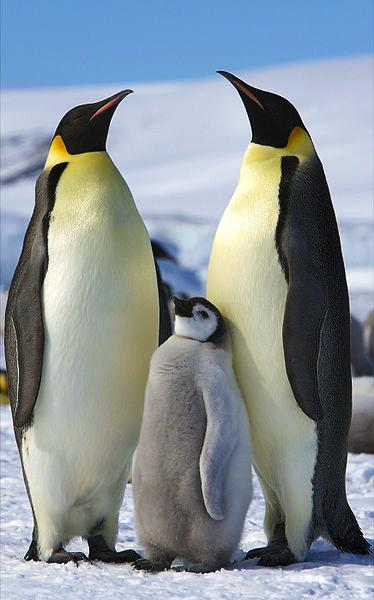emporer: (190, 60, 365, 597), (2, 78, 170, 568)
